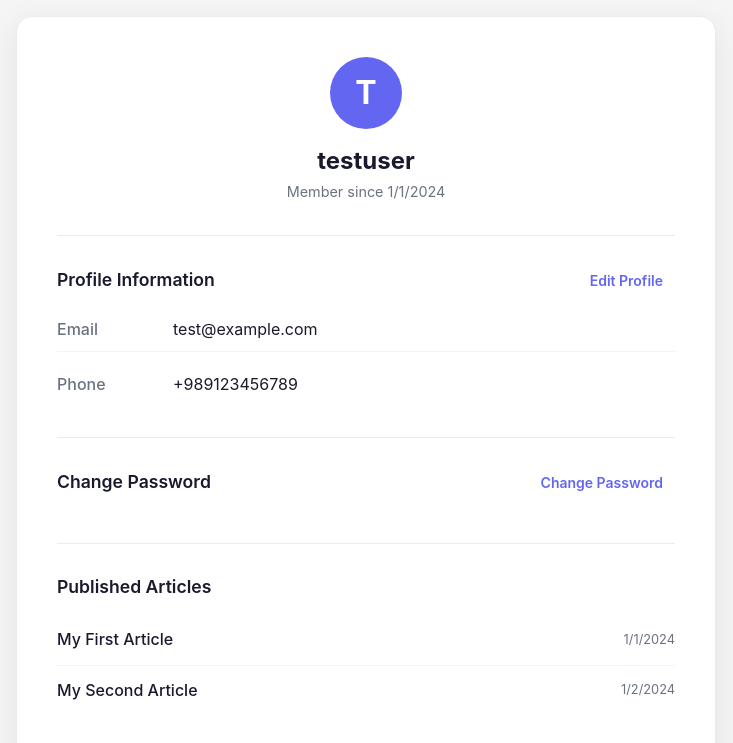
Test case: ProfilePage › Profile Editing › should toggle edit mode
Expected: the text "test@example.com" is shown, [173,317,318,343]
Click the button "Edit Profile": click(626, 281) [578,268,675,293]
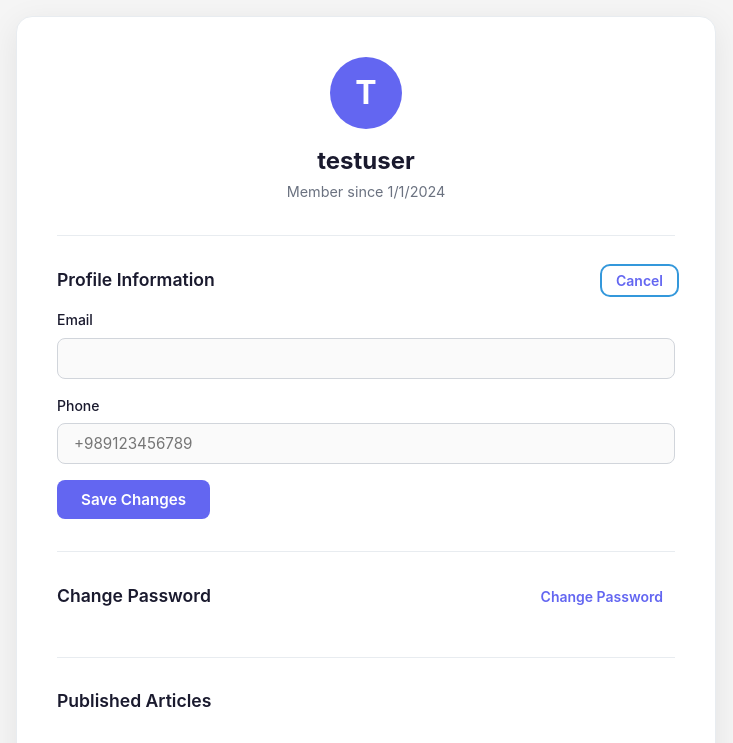
Result: the field labelled "Email" is shown at [57,338,675,379]
Result: the field labelled "Phone" is shown at [57,423,675,464]
